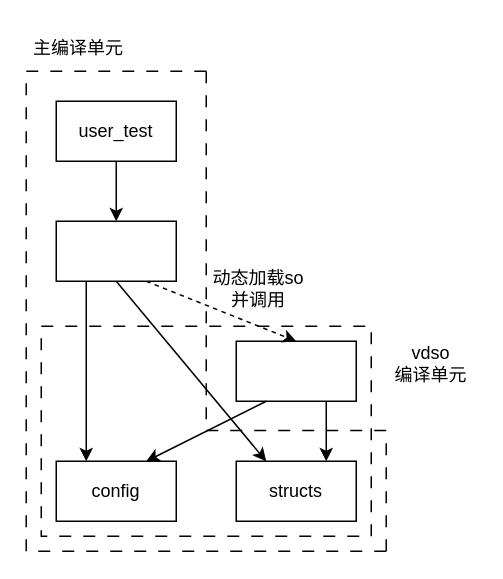
Image size: 503x579. Some labels were removed from this diagram. Each missing label, with the centre of its shape:
api: (115,250)
vdso: (295,370)
